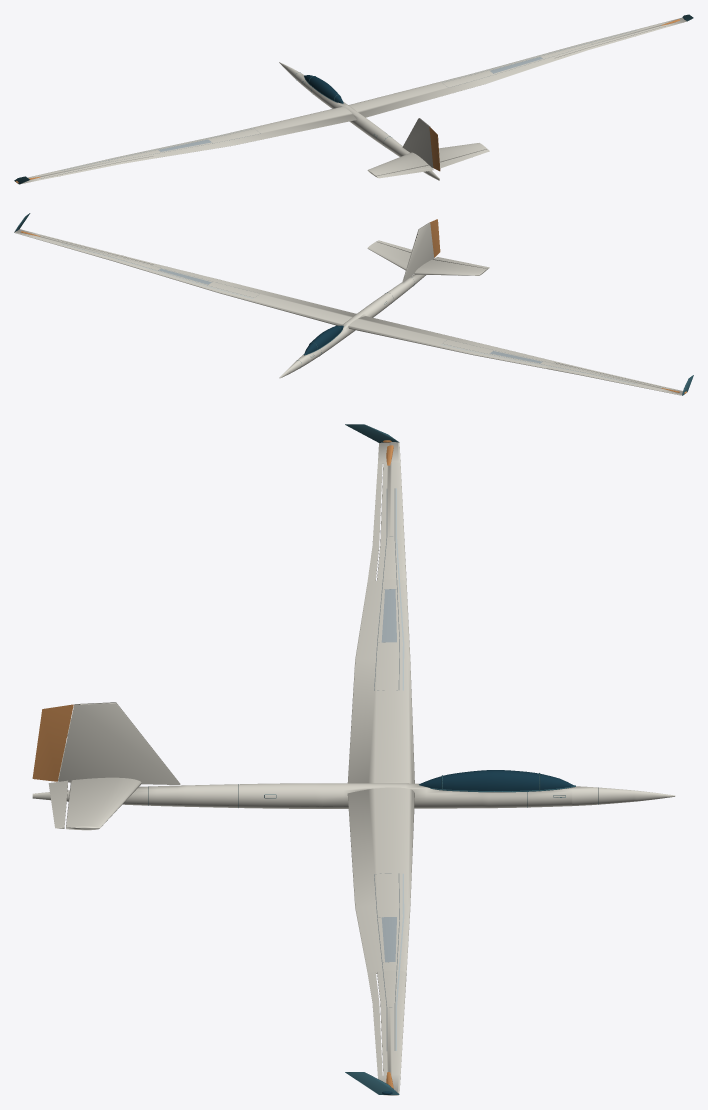
File: player-whisper-hero-v3.glb
3 views of the same model, one above another, from view 1: azimuth 30°, elevation 25°; view 2: azimuth 150°, elevation 25°; view 3: azimuth 270°, elevation 25° (orthographic). The views are drawn at different scales.
Parts seen in each view (by area): view 1: hull, service-markings, glass, rudder, aileron-right, aileron-left; view 2: hull, service-markings, glass; view 3: hull, service-markings, glass, rudder, trim.
Boxes of the visible parts, x1,y1,x2,y2 form: hull: (20,17,686,184); service-markings: (61,30,638,172); glass: (304,18,685,103); rudder: (429,127,440,171); aileron-right: (555,26,667,60); aileron-left: (39,156,155,180); hull: (14,222,684,395); service-markings: (61,243,639,384); glass: (16,228,343,354); hull: (32,442,675,1095); service-markings: (374,488,404,1050); glass: (382,770,574,1094); rudder: (32,704,73,781); trim: (148,424,598,1094).
Bounding box in the file's own units: 19.26 × 1.44 × 8.
